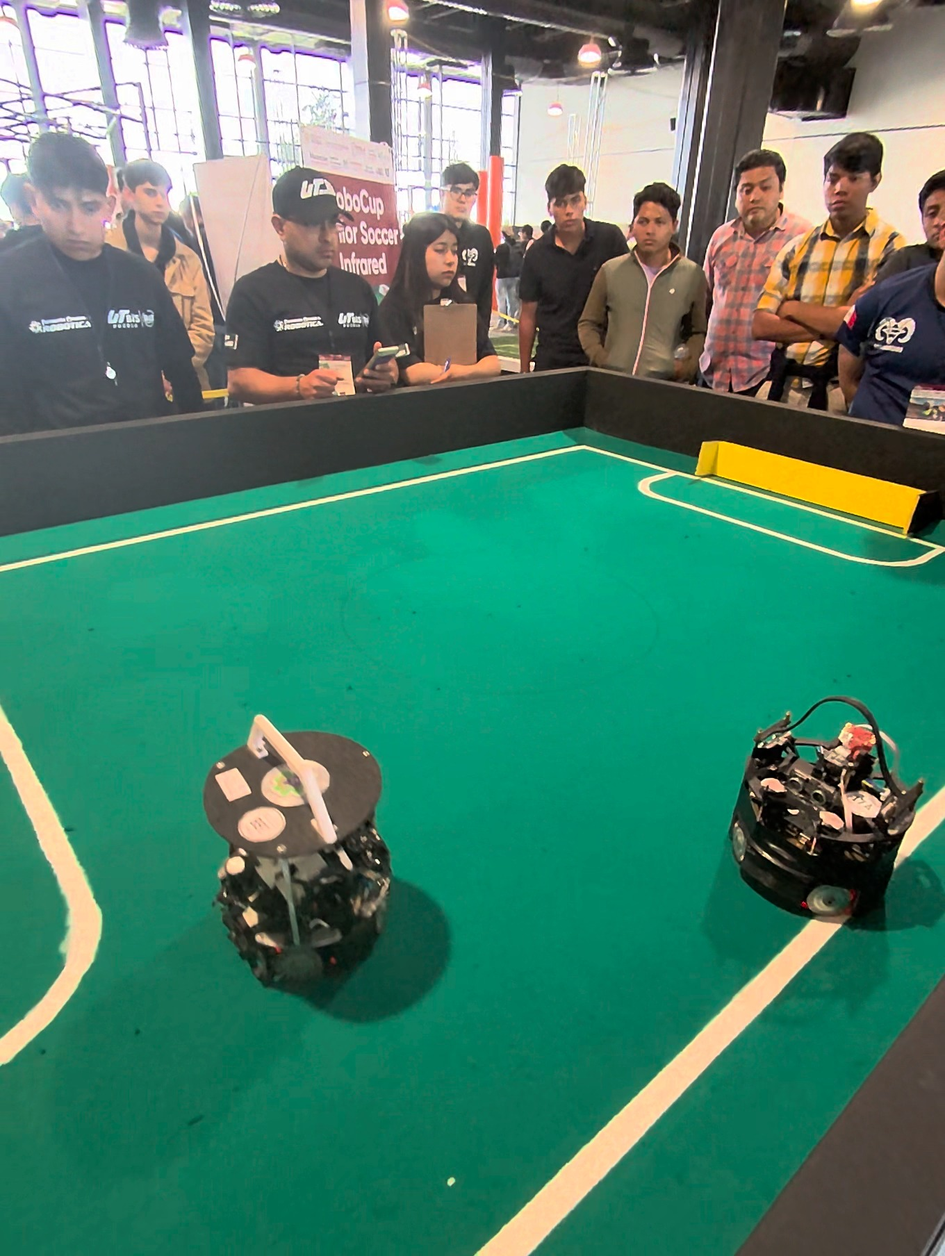Robot: (191, 698, 430, 1022), (733, 684, 927, 938)
